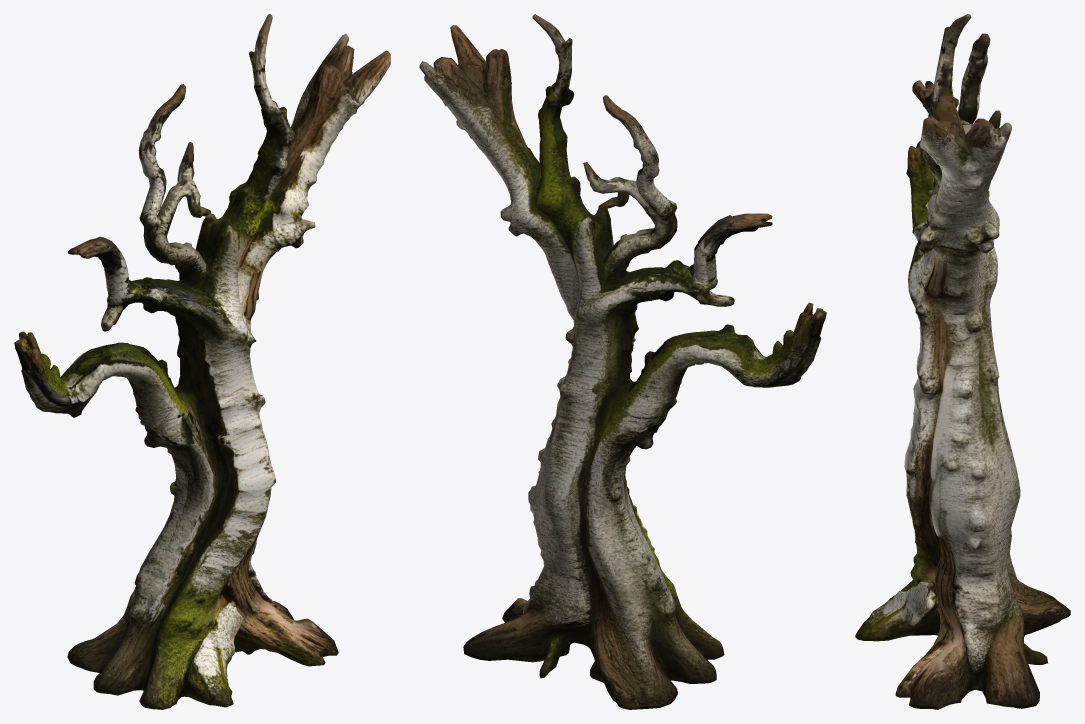
File: arvore-betula.glb
The picture shows the model from 3 angles, left to right: view 1: azimuth 30°, elevation 25°; view 2: azimuth 150°, elevation 25°; view 3: azimuth 270°, elevation 25°; orthographic projection. The views are drawn at different scales.
Parts seen in each view (by area): view 1: node_0; view 2: node_0; view 3: node_0.
Part boxes in pixels (x1=…): node_0: x1=14, y1=14, x2=390, y2=709; node_0: x1=419, y1=14, x2=826, y2=709; node_0: x1=855, y1=14, x2=1070, y2=709.
Size of the model in its own units: 6.23 by 10 by 2.91.
1 material, 1 textured.
